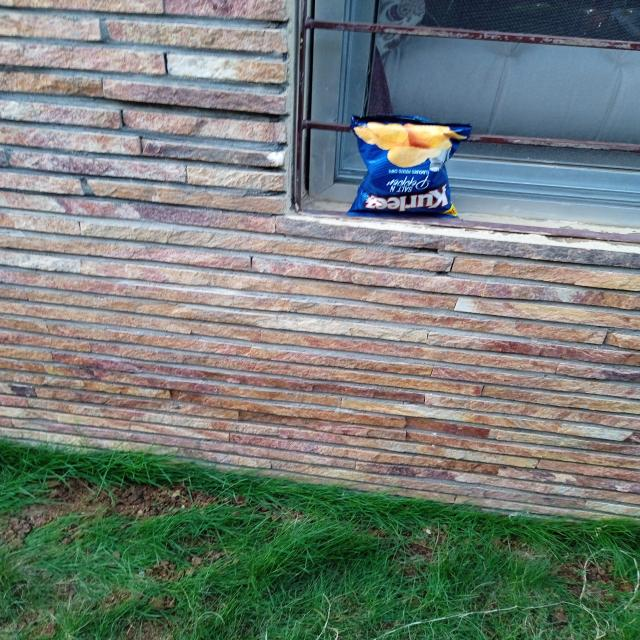Plastic: (344, 110, 466, 216)
